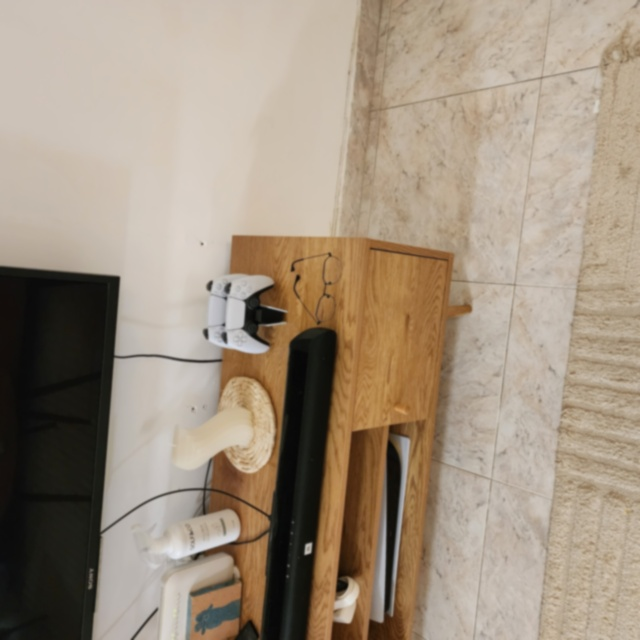glasses: (289, 250, 344, 326)
